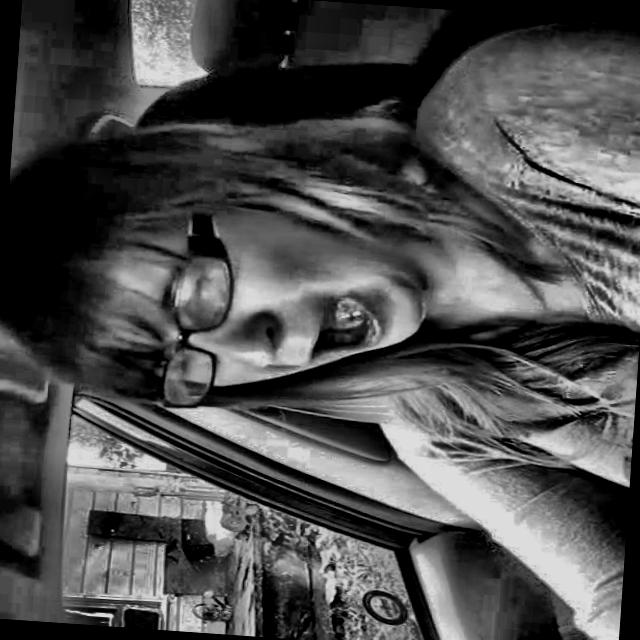closed_eyes: (170, 263, 225, 329), (160, 344, 215, 408)
open_mouth: (298, 282, 396, 385)
